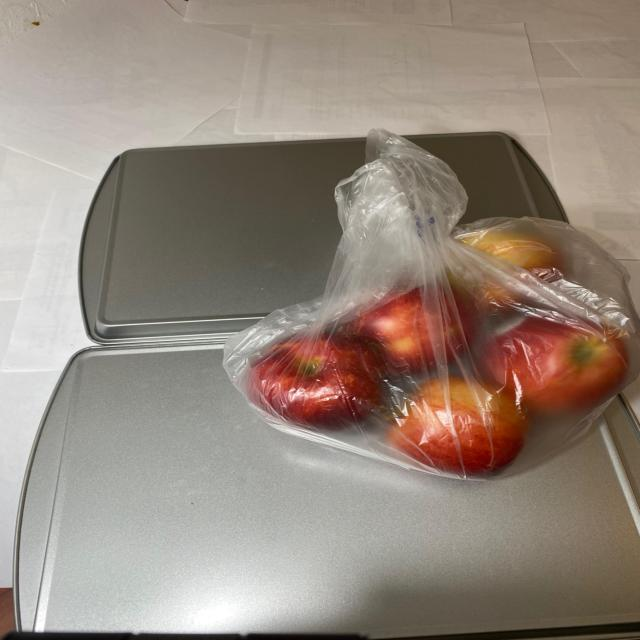apple: (241, 184, 634, 487)
